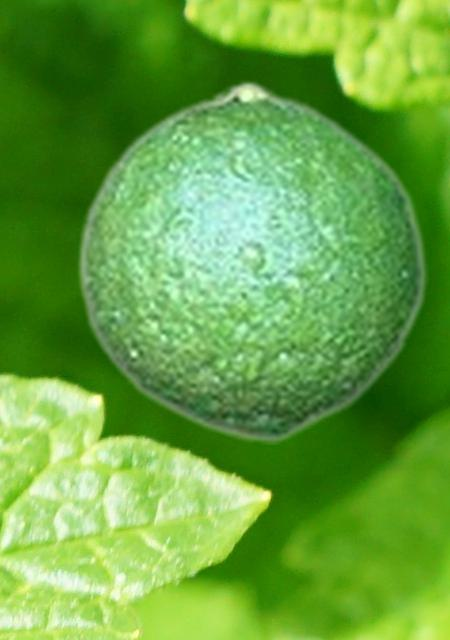dalandan: (74, 79, 427, 443)
